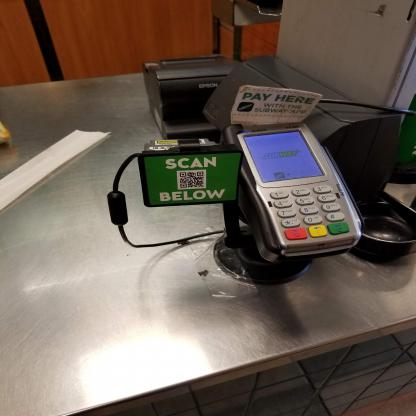qr: (176, 169, 206, 191)
